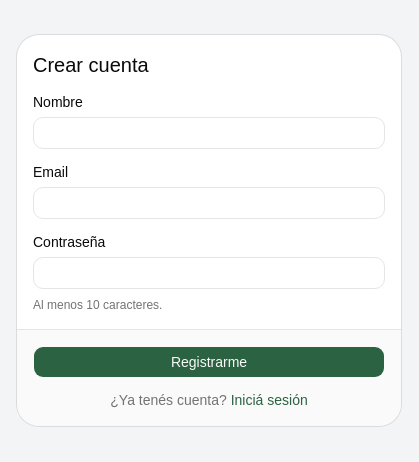
Scenario: el registro valida la contraseña en el navegador y muestra el 409 de la API
This screenshot has width=419, height=462.
Expected: the heading "Crear cuenta" is shown, x1=33 y1=54 x2=149 y2=76
Type "Ana" into the field labelled "Nombre". click: (209, 132)
box: x1=33 y1=116 x2=385 y2=148
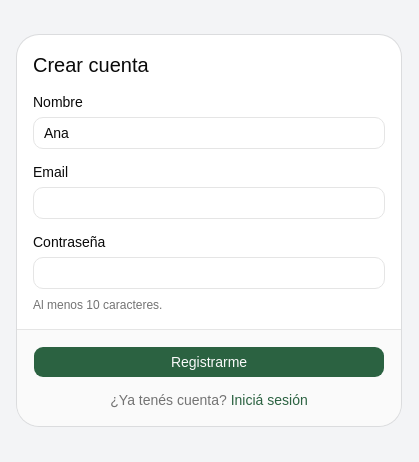
Type "ana@example.com" into the field labelled "Email". click: (209, 202)
box: x1=33 y1=186 x2=385 y2=218
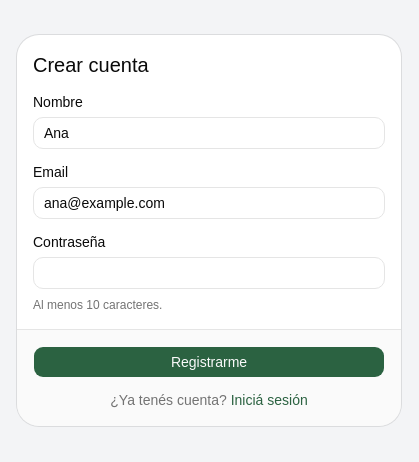
Type "clave-larga-123" into the password field labelled "Contraseña". click: (209, 272)
box: x1=33 y1=256 x2=385 y2=288
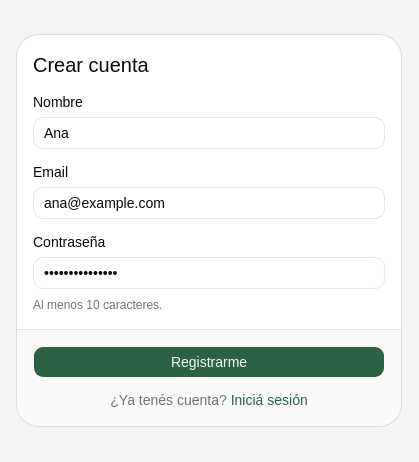
Click the button "Registrarme". click: (209, 362)
box: x1=33 y1=346 x2=385 y2=378
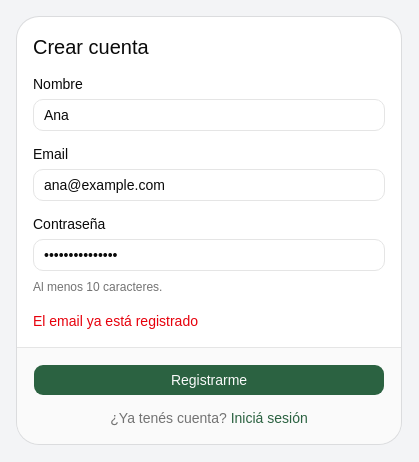
Now the message reads "El email ya está registrado", box x1=33 y1=312 x2=198 y2=328
